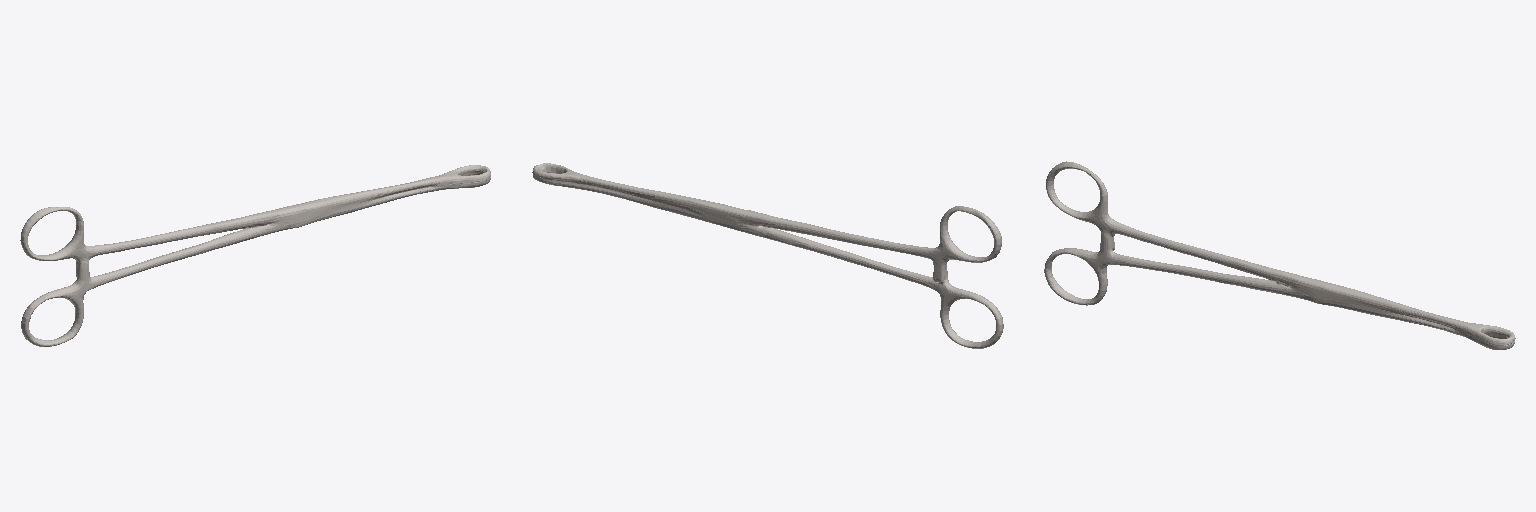
robot.urdf — Tooling_6:
<?xml version="1.0" encoding="utf-8"?>
<!-- This URDF was automatically created by SolidWorks to URDF Exporter! Originally created by Stephen Brawner (brawner@gmail.com)
     Commit Version: 1.6.0-4-g7f85cfe  Build Version: 1.6.7995.38578
     For more information, please see http://wiki.ros.org/sw_urdf_exporter -->
<robot
  name="Tooling_6">
  <link
    name="base_link">
    <inertial>
      <origin
        xyz="5.4435E-07 -0.00040924 -2.6814E-05"
        rpy="0 0 0" />
      <mass
        value="0.092712" />
      <inertia
        ixx="1.0974E-05"
        ixy="-4.0116E-06"
        ixz="-2.3239E-06"
        iyy="0.00051629"
        iyz="1.585E-07"
        izz="0.00052669" />
    </inertial>
    <visual>
      <origin
        xyz="0 0 0"
        rpy="0 0 0" />
      <geometry>
        <mesh
          filename="../meshes/base_link.STL" />
      </geometry>
      <material
        name="">
        <color
          rgba="0.77647 0.75686 0.73725 1" />
      </material>
    </visual>
    <collision>
      <origin
        xyz="0 0 0"
        rpy="0 0 0" />
      <geometry>
        <mesh
          filename="../meshes/base_link.STL" />
      </geometry>
    </collision>
  </link>
</robot>

--- Facts derived from the render (not from the file) ---
3 views of the same robot in one strip: view 1: azimuth 30°, elevation 25°; view 2: azimuth 150°, elevation 25°; view 3: azimuth 330°, elevation 25° (orthographic).
Robot: Tooling_6 — 1 links, 0 joints (none); root link base_link; default pose: all joints at 0.
Visible links, largest first — view 1: base_link; view 2: base_link; view 3: base_link.
Boxes of the visible links, bbox=[...] form: base_link: bbox=[20, 165, 490, 346]; base_link: bbox=[532, 163, 1003, 348]; base_link: bbox=[1044, 161, 1515, 349].
Size in the robot's own frame: 0.2571 by 0.0139 by 0.0729 metres.
1 mesh visuals loaded from 1 distinct referenced files (1 binary STL).
